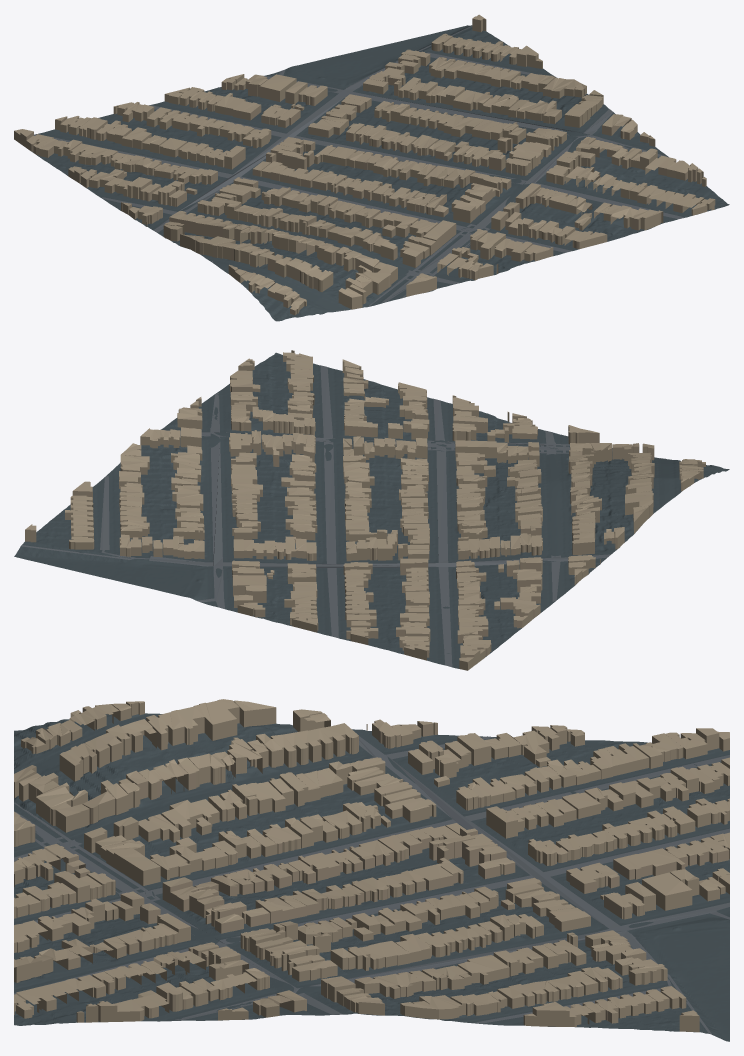
The model's file is epsg26910-1432-10871.lod0.glb.
The picture shows the model from 3 angles, top to bottom: view 1: azimuth 30°, elevation 25°; view 2: azimuth 150°, elevation 25°; view 3: azimuth 270°, elevation 25°; orthographic projection. The views are drawn at different scales.
Visible parts, largest first — view 1: epsg26910-1432-10871-lod0; view 2: epsg26910-1432-10871-lod0; view 3: epsg26910-1432-10871-lod0.
Part boxes in pixels (<box>): epsg26910-1432-10871-lod0: <box>14,14,729,321</box>; epsg26910-1432-10871-lod0: <box>14,350,729,670</box>; epsg26910-1432-10871-lod0: <box>14,699,729,1041</box>.
Bounding box in the file's own units: 384 × 27.73 × 384.
